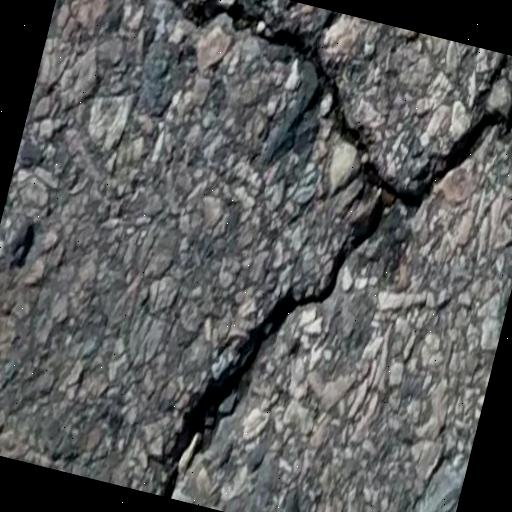spalling: (142, 0, 512, 485)
